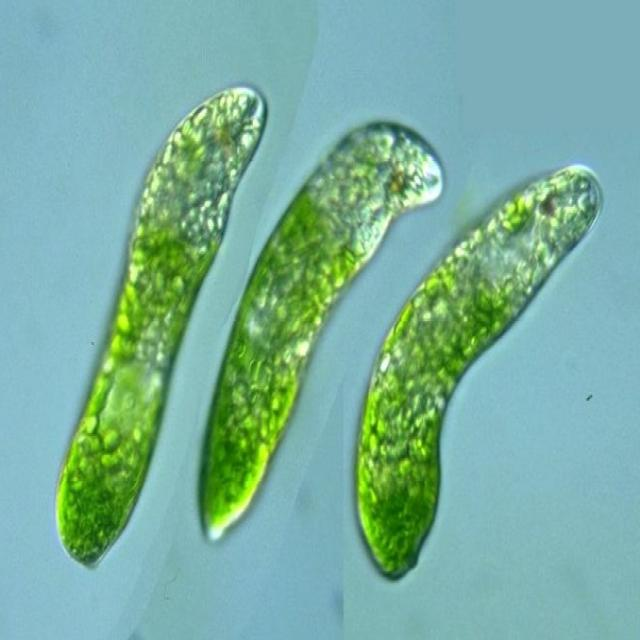Amoeba: (198, 116, 447, 543), (355, 160, 605, 580), (55, 82, 269, 568)
